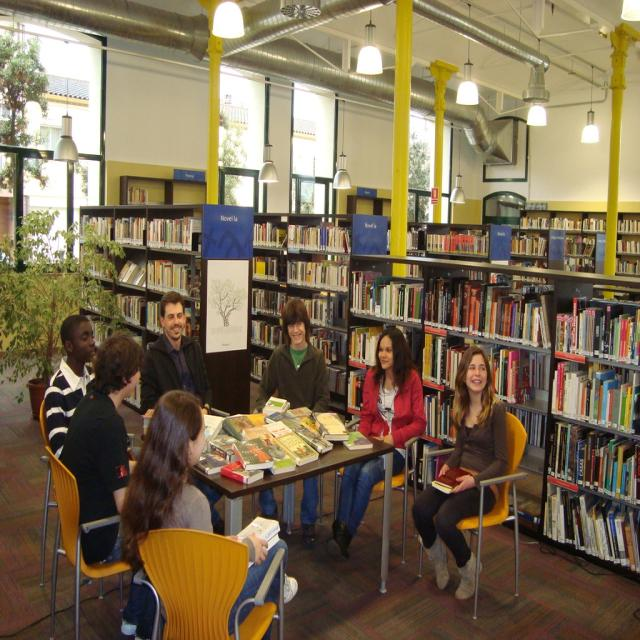Book: (347, 316, 543, 410), (349, 266, 554, 354), (193, 389, 374, 487), (345, 372, 543, 453), (542, 482, 640, 572), (545, 362, 640, 438), (550, 421, 638, 500), (75, 293, 202, 345), (554, 291, 640, 367), (248, 284, 353, 337), (80, 262, 202, 302), (80, 212, 197, 251), (244, 320, 337, 366), (84, 313, 152, 375), (255, 356, 345, 394), (251, 256, 349, 290), (508, 232, 640, 256), (518, 213, 640, 236), (284, 224, 358, 258), (427, 226, 495, 253), (526, 258, 640, 274), (234, 516, 282, 549), (245, 528, 282, 569), (406, 441, 441, 478), (431, 465, 472, 493), (341, 430, 377, 455), (391, 228, 422, 255), (254, 218, 280, 250), (122, 377, 144, 409), (124, 186, 152, 205)
